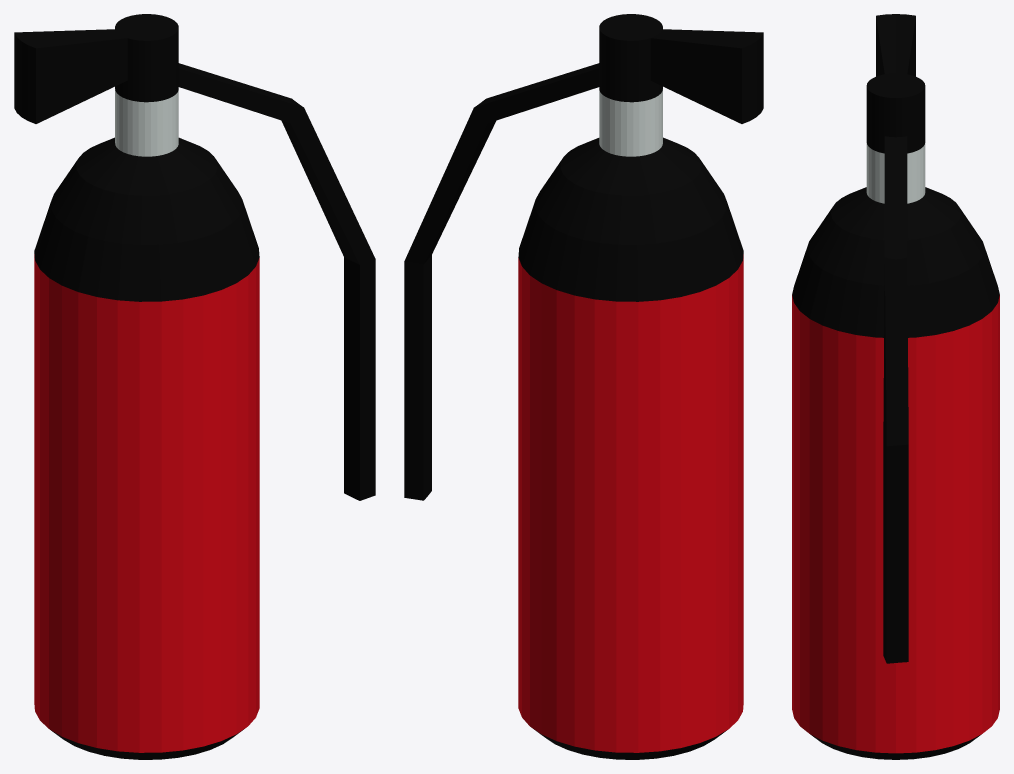
The model's file is fire extinguisher.fbx.
3 views of the same model, side by side, from view 1: azimuth 30°, elevation 25°; view 2: azimuth 150°, elevation 25°; view 3: azimuth 270°, elevation 25° (orthographic). The views are drawn at different scales.
Parts seen in each view (by area): view 1: Cylinder; view 2: Cylinder; view 3: Cylinder.
Part boxes in pixels (bbox=[...]): Cylinder: bbox=[14, 14, 375, 759]; Cylinder: bbox=[404, 14, 763, 759]; Cylinder: bbox=[792, 14, 999, 759].
Size of the model in its own units: 162 by 314 by 90.75.
